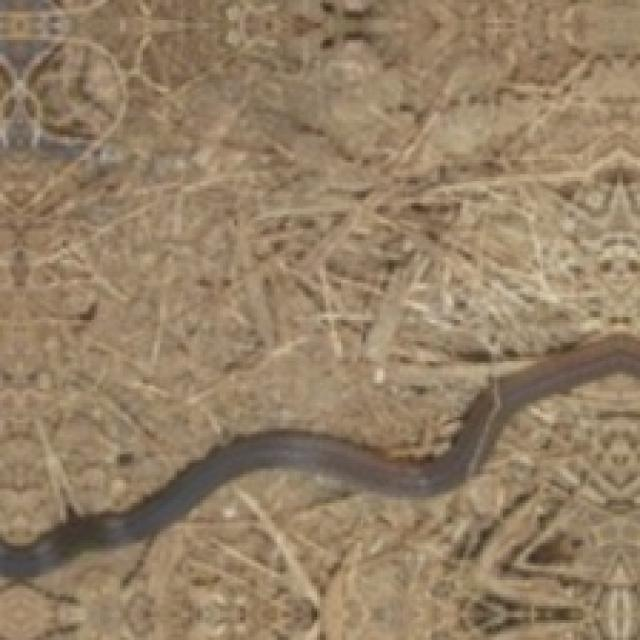gervais worm snake: (0, 334, 637, 577)
